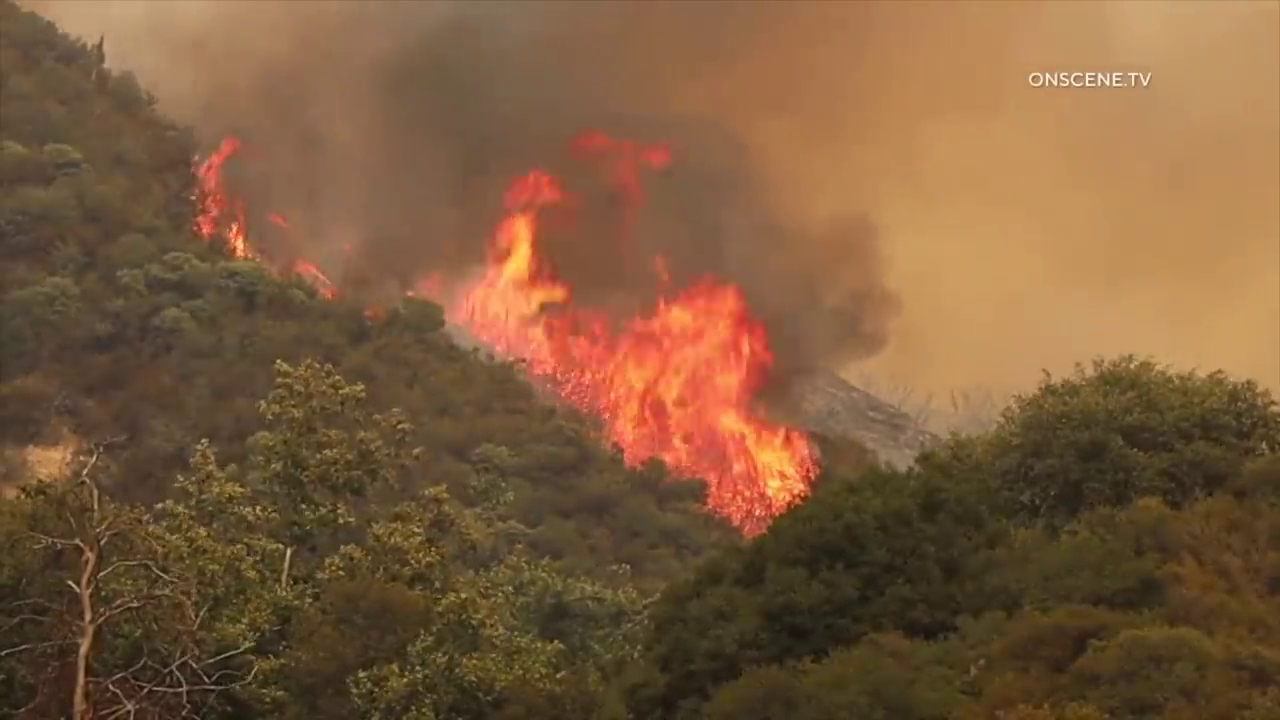forest_fire: (410, 170, 816, 533), (194, 138, 261, 260)
